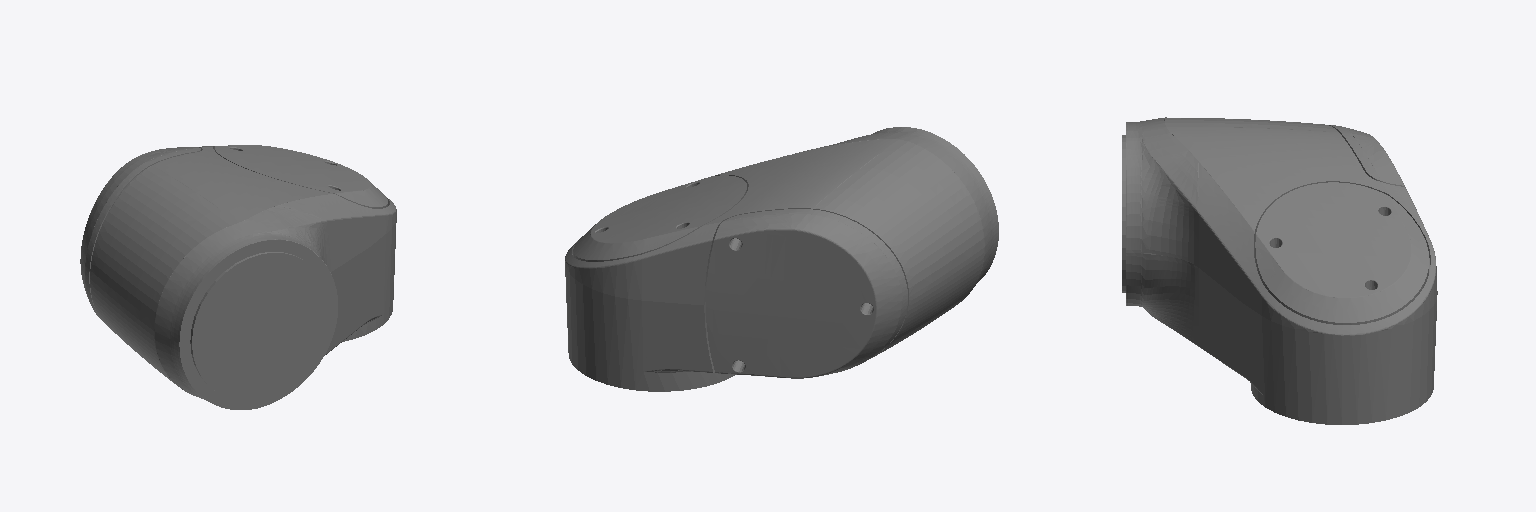
The picture shows the model from 3 angles: view 1: azimuth 30°, elevation 25°; view 2: azimuth 150°, elevation 25°; view 3: azimuth 270°, elevation 25°; orthographic projection.
Parts seen in each view (by area): view 1: Body1, Body3, Body2; view 2: Body1, Body2, Body3; view 3: Body1, Body3, Body2.
Part boxes in pixels (left/top/right/bottom): Body1: left=90, top=146, right=396, bottom=409; Body3: left=215, top=145, right=387, bottom=208; Body2: left=80, top=147, right=200, bottom=319; Body1: left=565, top=127, right=998, bottom=391; Body2: left=706, top=209, right=907, bottom=378; Body3: left=573, top=175, right=746, bottom=261; Body1: left=1122, top=117, right=1437, bottom=424; Body3: left=1255, top=182, right=1428, bottom=324; Body2: left=1329, top=125, right=1405, bottom=187.
Bounding box in the file's own units: 0.2324 × 0.1298 × 0.1992.